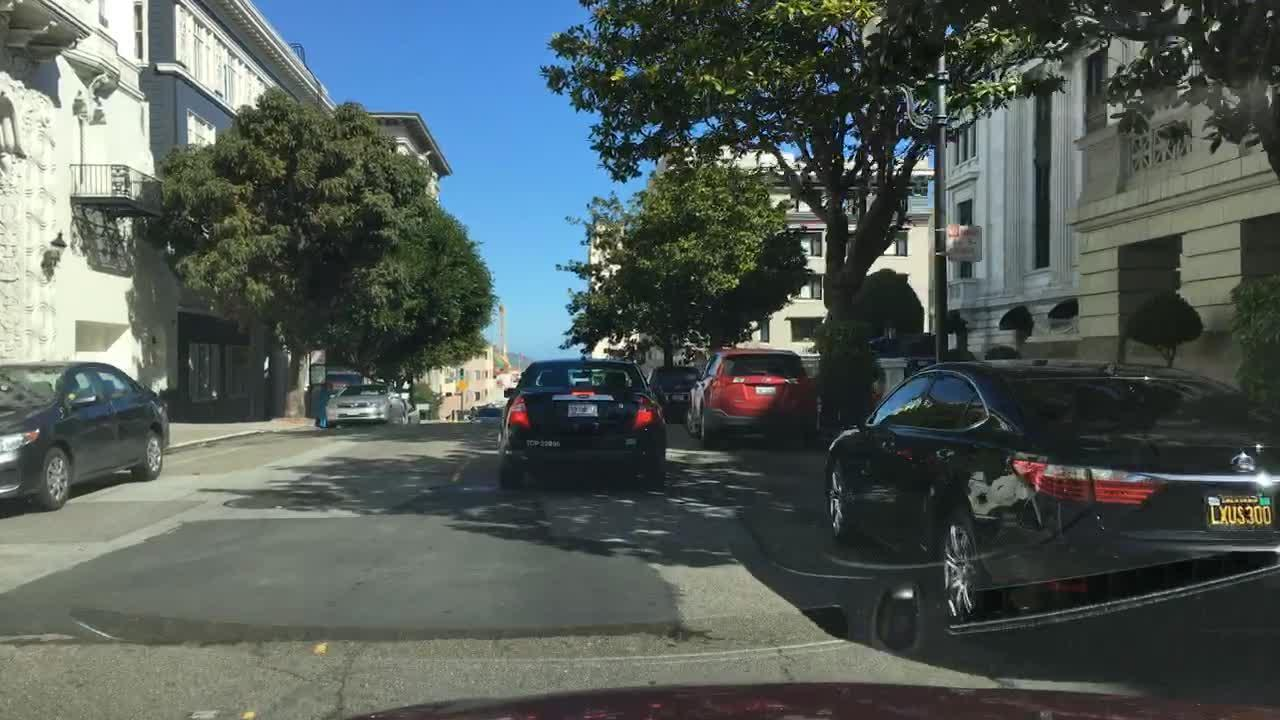ford: (575, 392, 594, 403)
lexus: (1226, 451, 1257, 477)
